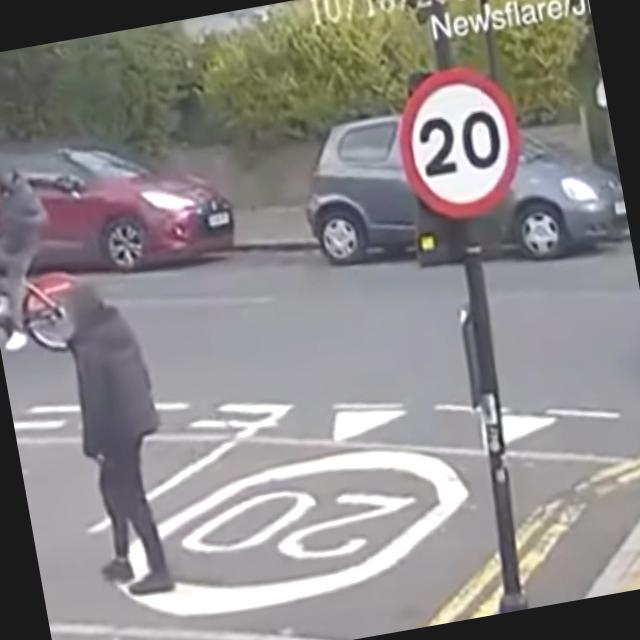person: (48, 267, 190, 601), (0, 154, 70, 352)
